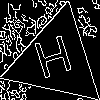H: (31, 34, 79, 89)
